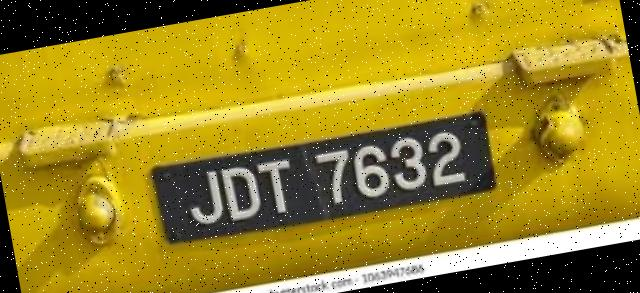License_Plate: (140, 91, 508, 274)
